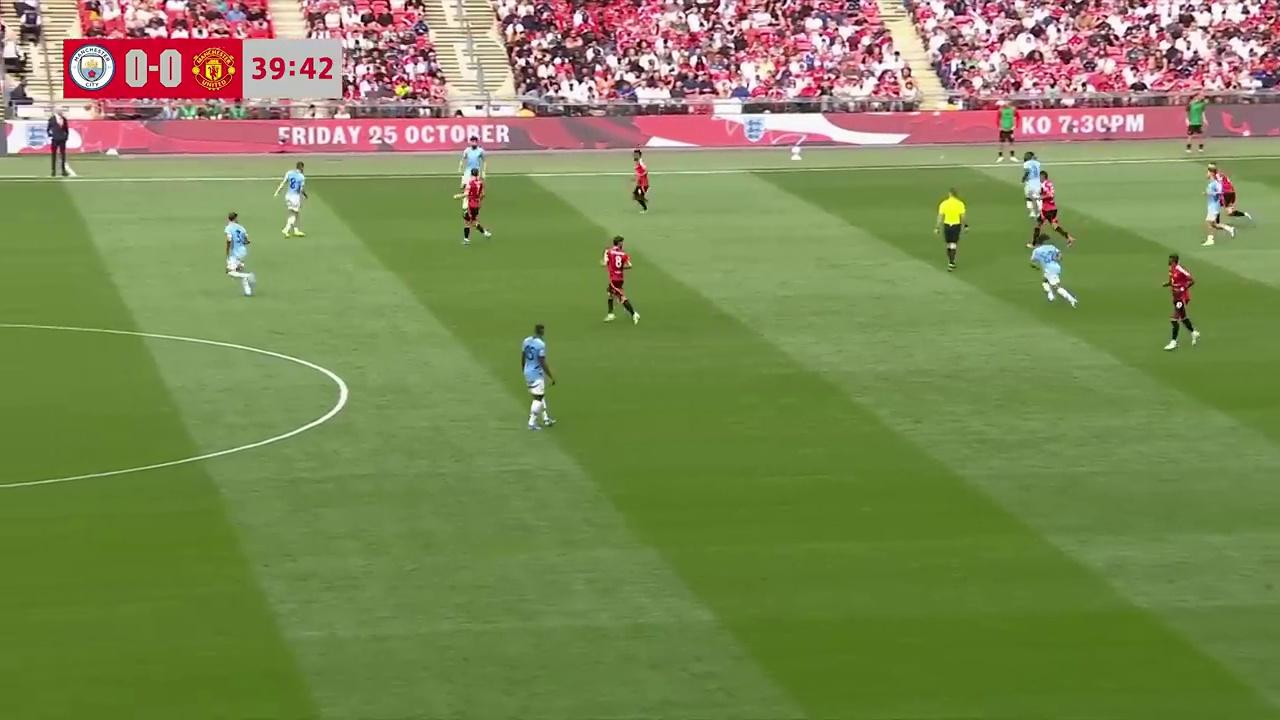player: (1160, 253, 1200, 350), (521, 319, 555, 431), (1026, 233, 1077, 307), (601, 235, 640, 324), (1210, 167, 1254, 239), (1030, 171, 1069, 241), (1201, 164, 1234, 244), (276, 161, 308, 237), (459, 170, 491, 245), (224, 211, 253, 291), (1020, 152, 1043, 214), (630, 153, 650, 214), (461, 140, 486, 182)
referee: (935, 187, 969, 271)
